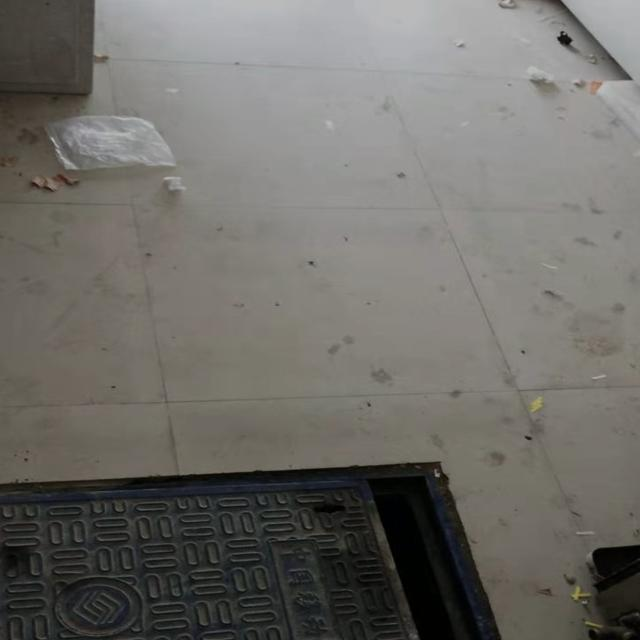uncovered: (0, 460, 532, 640)
